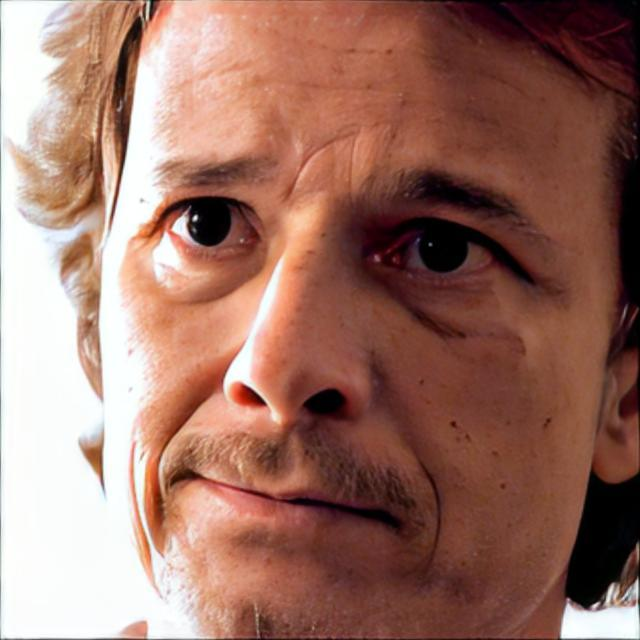sad: (96, 0, 622, 640)
